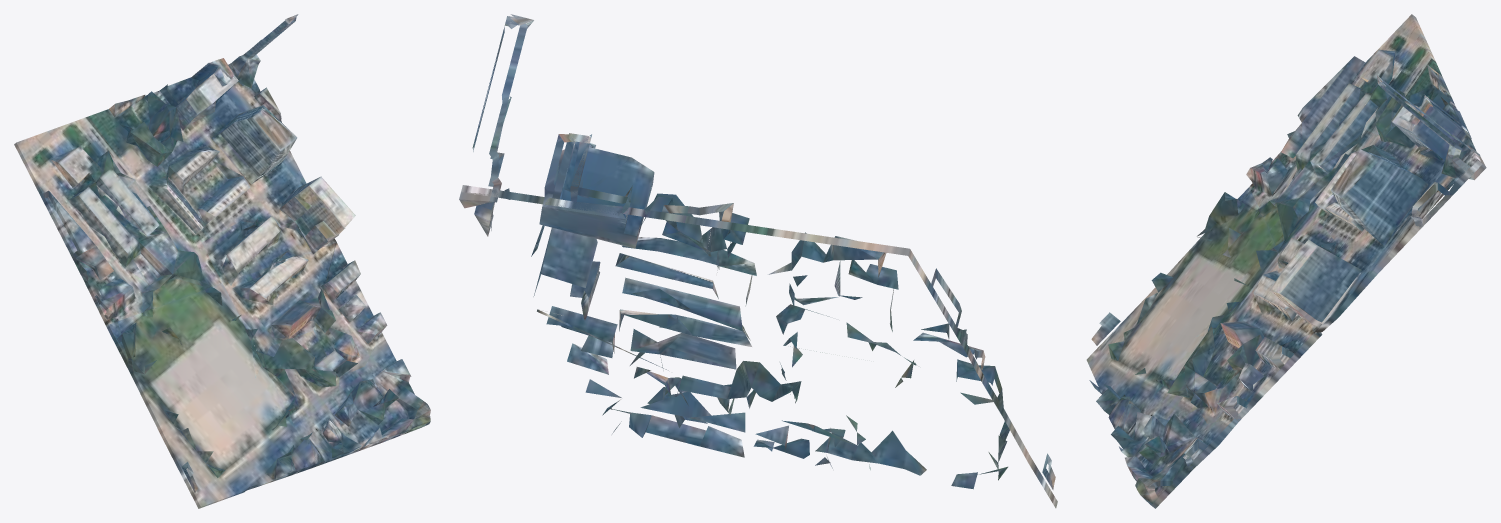
Rendered from AJVsH2wbmf_Z-6sFE9VlCcFCcEwYfgBSnN-Vfd7bNJb0AblvtoG8s6ynnrsfuD58hlzAAAZJPgnVwIRAIOaDBvihVWg3iNj-gwHbRSq9H6SgEiQhS6C2mCjjpJ9PazKpuUo6DSPle2CC635WHwNCn7v4Mu_GBluTDw.glb.
3 views of the same model, side by side, from view 1: azimuth 30°, elevation 25°; view 2: azimuth 150°, elevation 25°; view 3: azimuth 270°, elevation 25° (orthographic). The views are drawn at different scales.
Bounding box in the file's own units: 257 × 286 × 252.
Materials: 2 (2 with a texture image).
